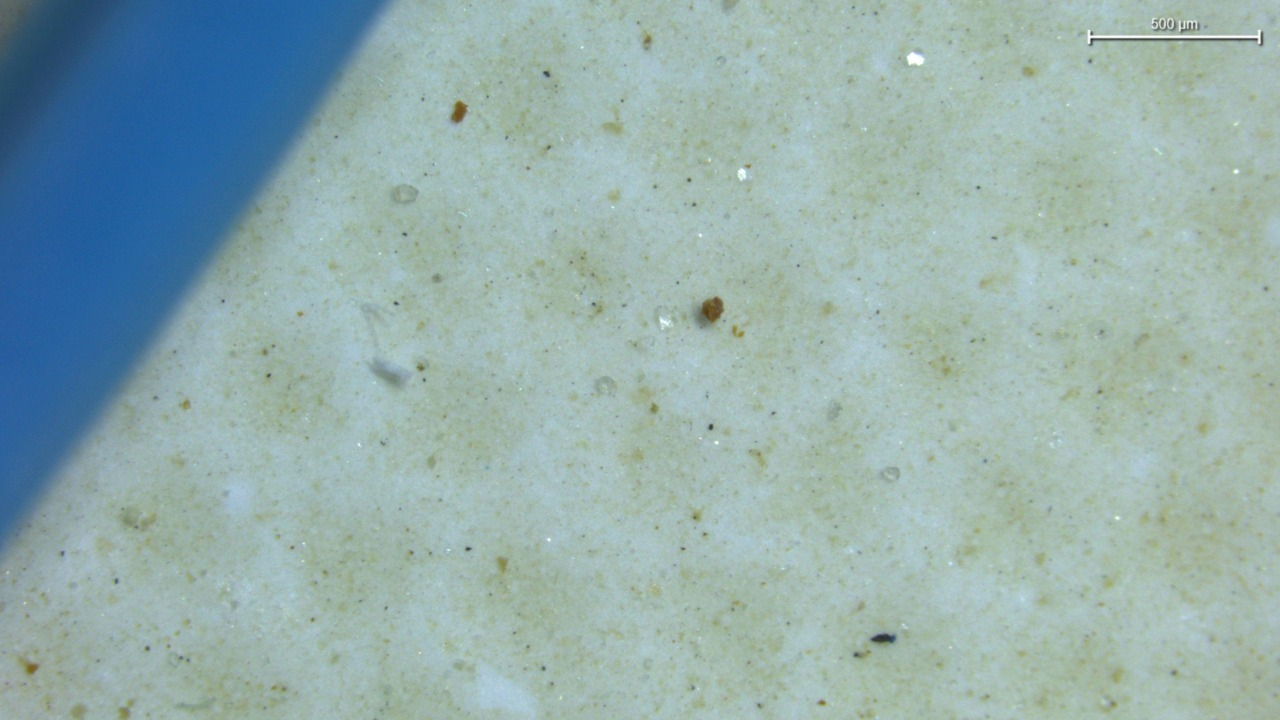microplastic_fragment: (369, 357, 410, 386), (396, 184, 418, 203)
